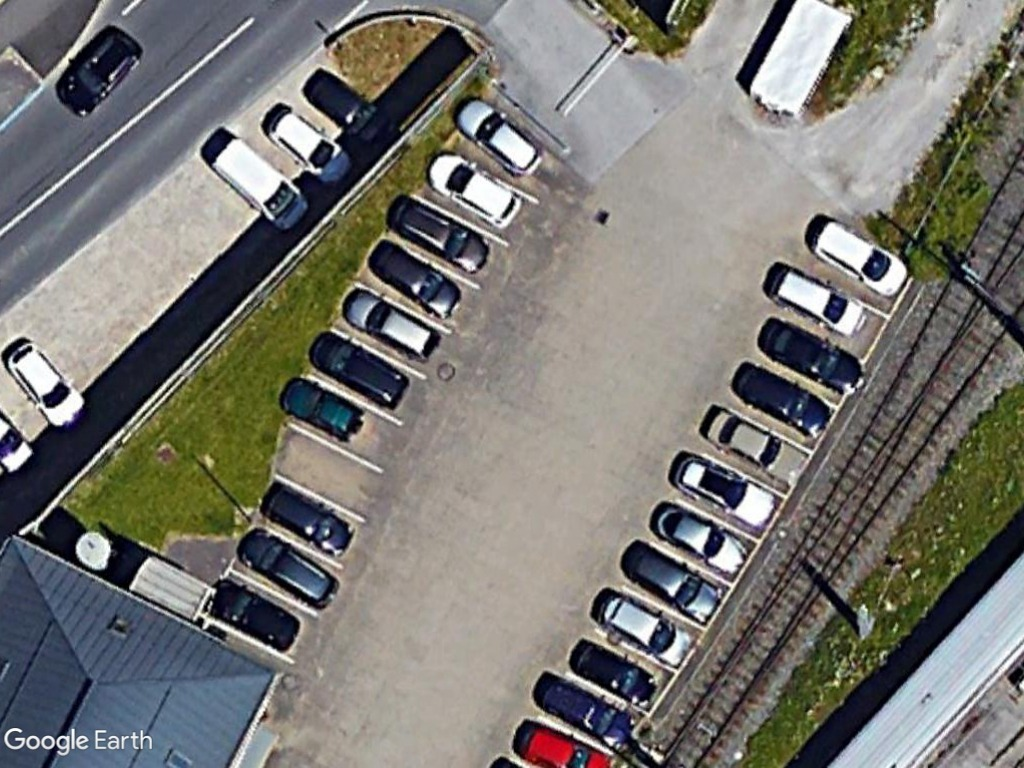car: (0, 331, 95, 438), (233, 525, 346, 614), (422, 148, 529, 237), (763, 256, 873, 341), (591, 586, 698, 670), (669, 449, 778, 531), (387, 200, 496, 280), (807, 216, 912, 299), (755, 315, 867, 391), (366, 242, 468, 325), (54, 23, 140, 121), (730, 362, 835, 442), (311, 327, 414, 408), (448, 97, 547, 181), (260, 474, 357, 559), (337, 284, 441, 363), (628, 546, 727, 626), (652, 499, 750, 579), (264, 102, 354, 188), (536, 676, 641, 749), (568, 638, 661, 711), (699, 402, 790, 475)
van: (201, 137, 312, 235)
